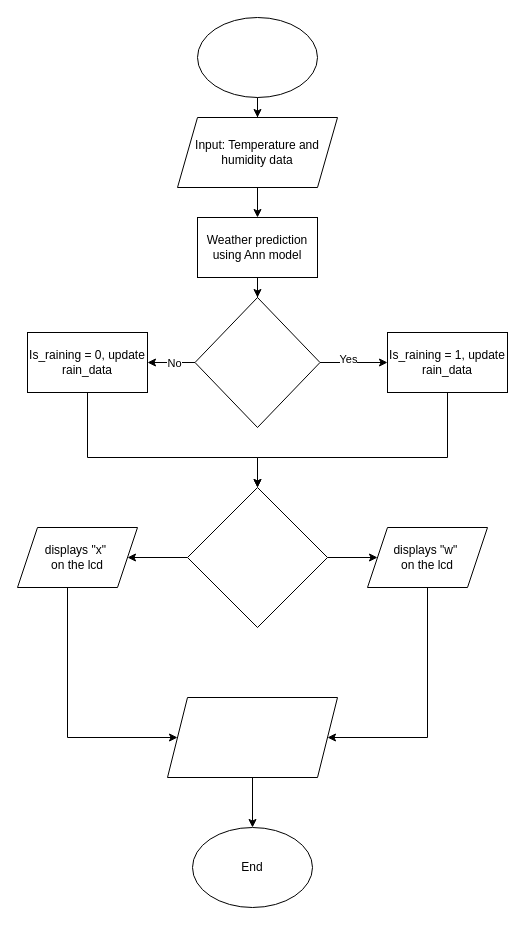
The diagram is 525 pixels wide and 925 high, and some of its shapes have lost their labels. The box of each missing label's shape, as (x1, y1, x2, y2) in pixels:
Displays temperature, humidity, prediction weather, and rain data: (166, 696, 338, 778)
Is there more than 2 rain data in the last 8 hours?: (186, 486, 328, 628)
Is weather = rainy: (194, 296, 320, 428)
Start: (196, 16, 318, 98)
